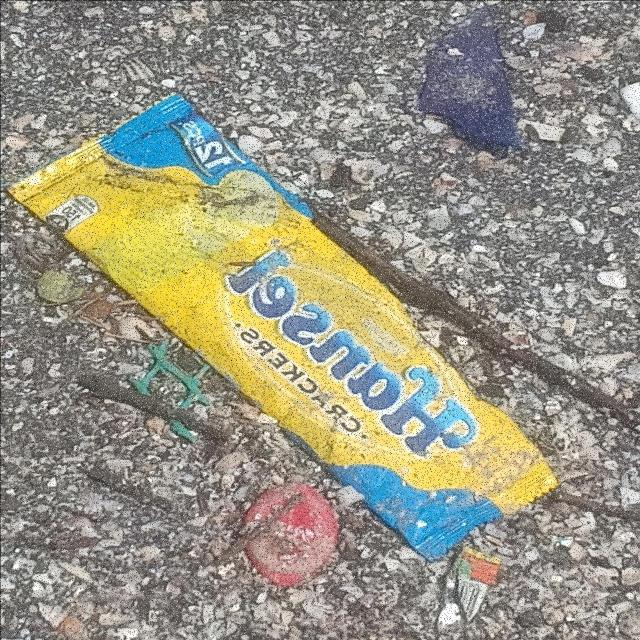plastic_waste: (4, 90, 562, 567), (435, 545, 503, 636)
